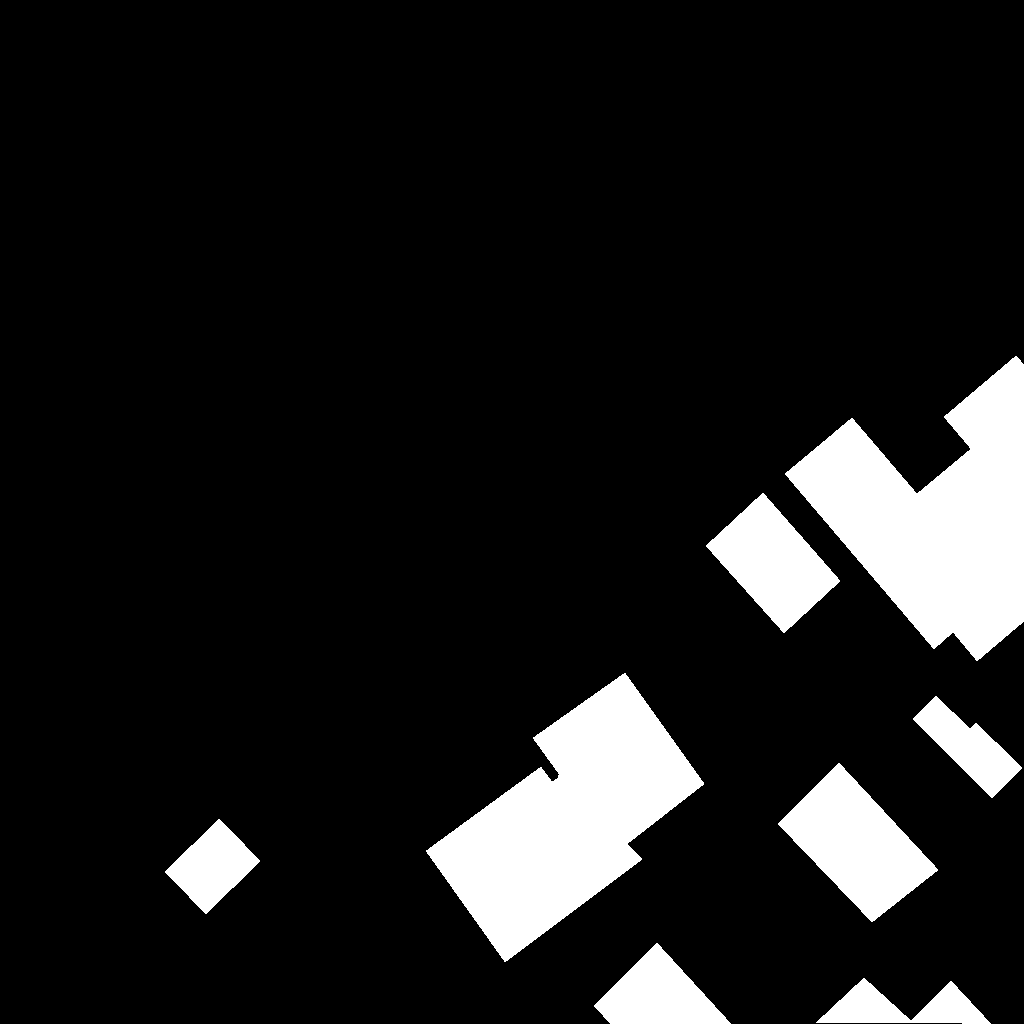building: (426, 673, 705, 963), (785, 356, 1024, 662), (778, 763, 939, 923), (706, 493, 841, 634), (913, 696, 1023, 799), (594, 943, 732, 1024), (165, 819, 261, 915), (816, 978, 992, 1024)
